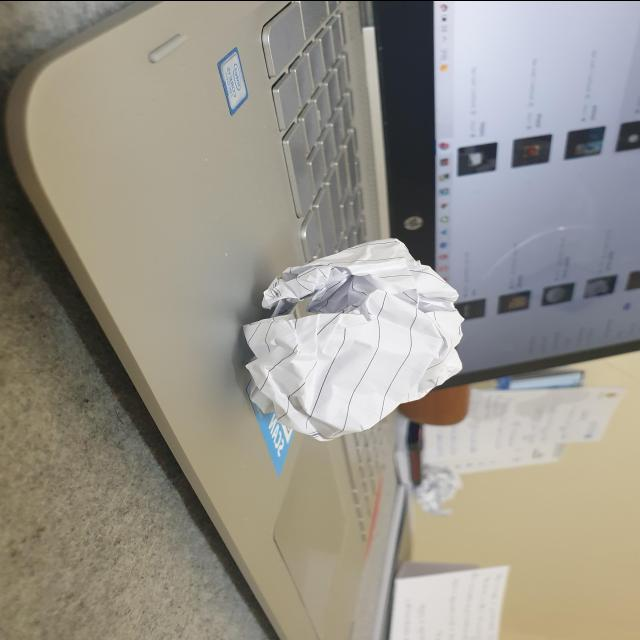kertas: (212, 224, 482, 446)
